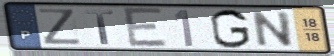1: (173, 8, 195, 48)
E: (121, 6, 170, 49)
G: (208, 8, 253, 50)
N: (252, 10, 295, 48)
T: (84, 9, 117, 46)
Z: (36, 7, 84, 46)
